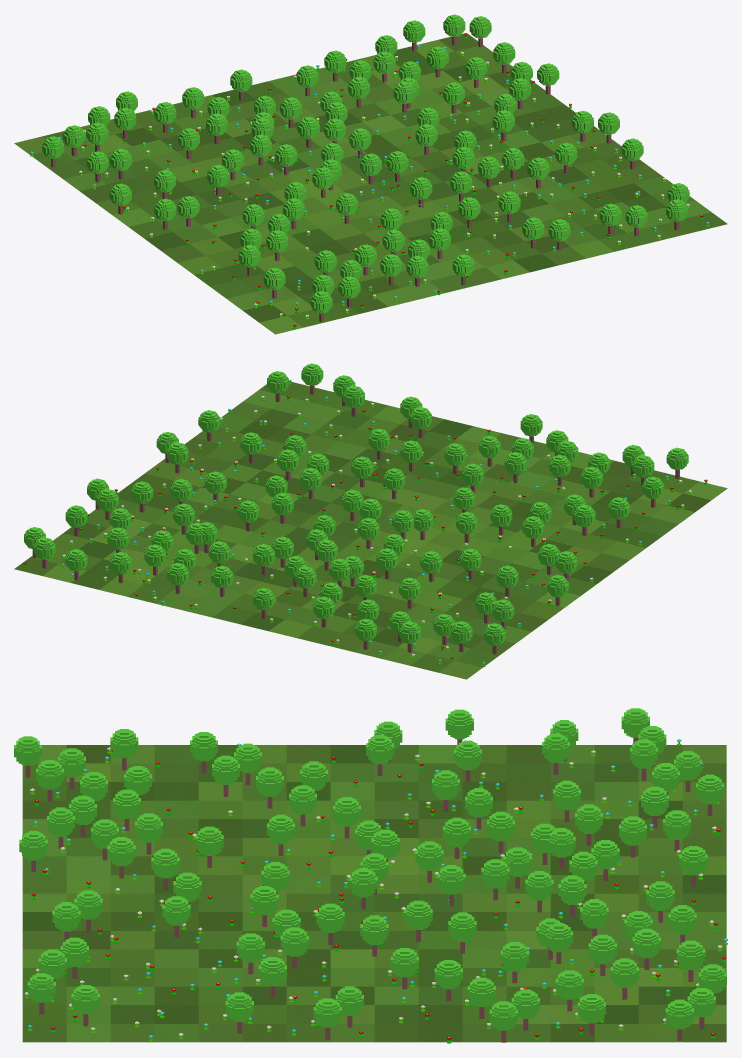
The model's file is main_level.fbx.
The picture shows the model from 3 angles, top to bottom: view 1: azimuth 30°, elevation 25°; view 2: azimuth 150°, elevation 25°; view 3: azimuth 270°, elevation 25°; orthographic projection. The views are drawn at different scales.
Parts seen in each view (by area): view 1: Plane; view 2: Plane; view 3: Plane, Plane|tree_circle|Dupli|9, Plane|tree_circle|Dupli|60, Plane|tree_circle|Dupli|25, Plane|tree_circle|Dupli|56, Plane|tree_circle|Dupli|80, Plane|tree_circle|Dupli|3, Plane|tree_circle|Dupli|35, Plane|tree_circle|Dupli|53, Plane|tree_circle|Dupli|99, Plane|tree_circle|Dupli|, Plane|tree_circle|Dupli|78 (+86 smaller).
Part boxes in pixels (box(x1,y1,x2,y2)): Plane: box(14, 33, 727, 334); Plane: box(14, 381, 727, 679); Plane: box(22, 745, 726, 1042); Plane|tree_circle|Dupli|9: box(489, 1001, 517, 1042); Plane|tree_circle|Dupli|60: box(280, 927, 308, 968); Plane|tree_circle|Dupli|25: box(555, 970, 583, 1011); Plane|tree_circle|Dupli|56: box(236, 933, 264, 974); Plane|tree_circle|Dupli|80: box(313, 998, 341, 1039); Plane|tree_circle|Dupli|3: box(27, 973, 55, 1014); Plane|tree_circle|Dupli|35: box(588, 934, 616, 975); Plane|tree_circle|Dupli|53: box(610, 958, 638, 999); Plane|tree_circle|Dupli|99: box(225, 992, 253, 1033); Plane|tree_circle|Dupli|: box(71, 985, 99, 1026); Plane|tree_circle|Dupli|78: box(390, 948, 418, 989).
Size of the model in its own units: 30752 by 1800 by 30426.
